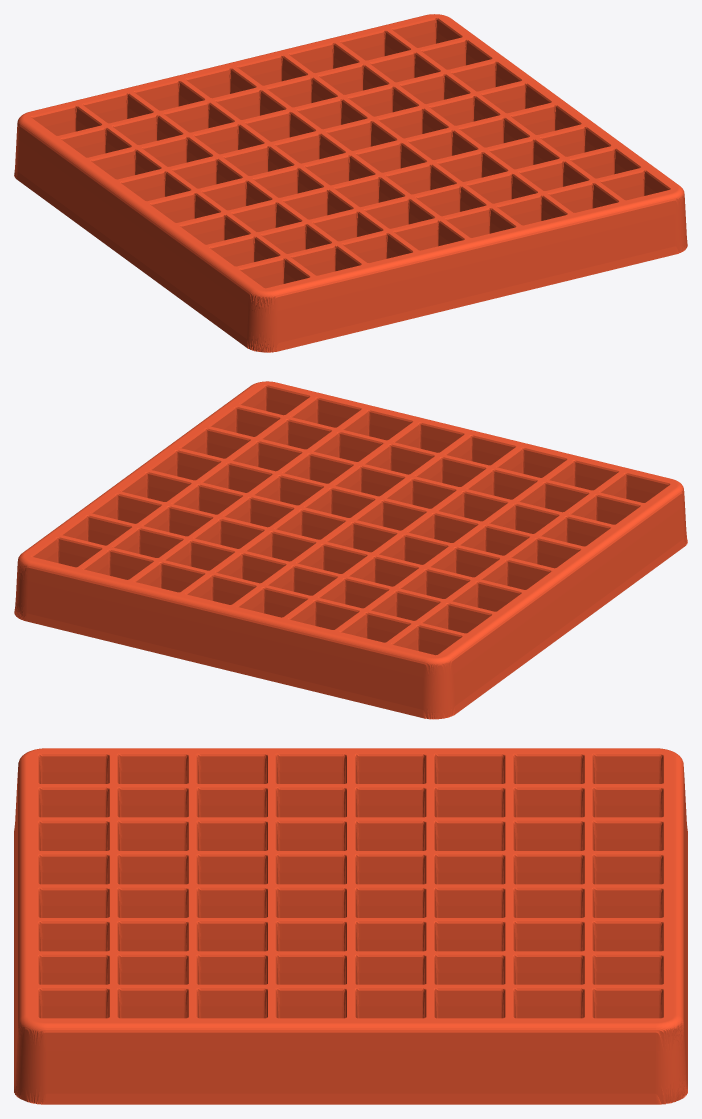
Rendered from mold.glb.
3 renders of one model, top to bottom at view 1: azimuth 30°, elevation 25°; view 2: azimuth 150°, elevation 25°; view 3: azimuth 270°, elevation 25°, orthographic. The views are drawn at different scales.
Parts seen in each view (by area): view 1: geometry_0; view 2: geometry_0; view 3: geometry_0.
Boxes of the visible parts, left/top/right/bottom form: geometry_0: left=14, top=14, right=687, bottom=352; geometry_0: left=14, top=381, right=687, bottom=719; geometry_0: left=14, top=748, right=687, bottom=1104.
Size of the model in its own units: 0.1886 by 0.0236 by 0.1886.
